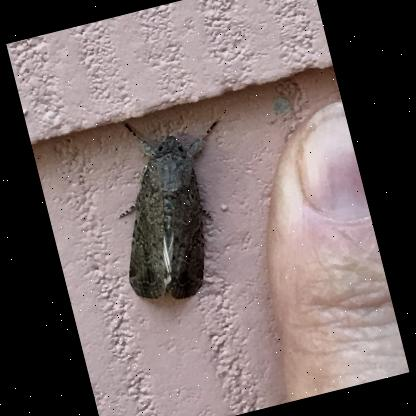Fall Armyworm Moth: (89, 96, 264, 314)
